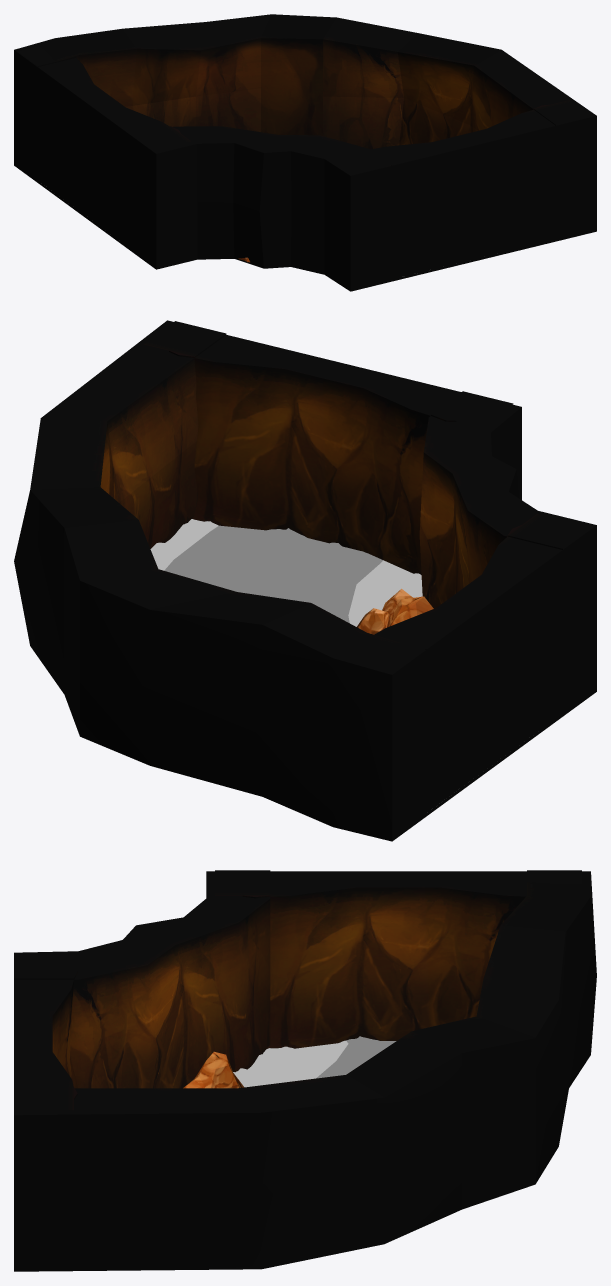
The model's file is Dungeon_062_RoadL_002.fbx.
The picture shows the model from 3 angles, top to bottom: view 1: azimuth 30°, elevation 25°; view 2: azimuth 150°, elevation 25°; view 3: azimuth 270°, elevation 25°; orthographic projection. The views are drawn at different scales.
Parts seen in each view (by area): view 1: Dun_062_RoadL_002_Wall02, Dun_062_Door_002 (×2); view 2: Dun_062_RoadL_002_Wall02, Dun_062_Door_002 (×2), Dun_062_RoadL_002_Nav, Dun_062_RoadL_002_shadow, Dun_062_Object_100; view 3: Dun_062_RoadL_002_Wall02, Dun_062_Door_002 (×2), Dun_062_RoadL_002_shadow, Dun_062_RoadL_002_Nav, Dun_062_Object_100.
Boxes of the visible parts, x1,y1,x2,y2 form: Dun_062_RoadL_002_Wall02: (14, 14, 596, 291); Dun_062_Door_002 (×2): (18, 46, 590, 281); Dun_062_RoadL_002_Wall02: (14, 320, 596, 841); Dun_062_Door_002 (×2): (143, 321, 591, 816); Dun_062_RoadL_002_Nav: (164, 525, 383, 622); Dun_062_RoadL_002_shadow: (150, 519, 422, 626); Dun_062_Object_100: (382, 588, 433, 627); Dun_062_RoadL_002_Wall02: (14, 871, 596, 1271); Dun_062_Door_002 (×2): (14, 870, 581, 1110); Dun_062_RoadL_002_shadow: (233, 1040, 348, 1087); Dun_062_RoadL_002_Nav: (316, 1036, 396, 1078); Dun_062_Object_100: (183, 1051, 244, 1088).
Size of the model in its own units: 6.75 by 2.08 by 6.82.
